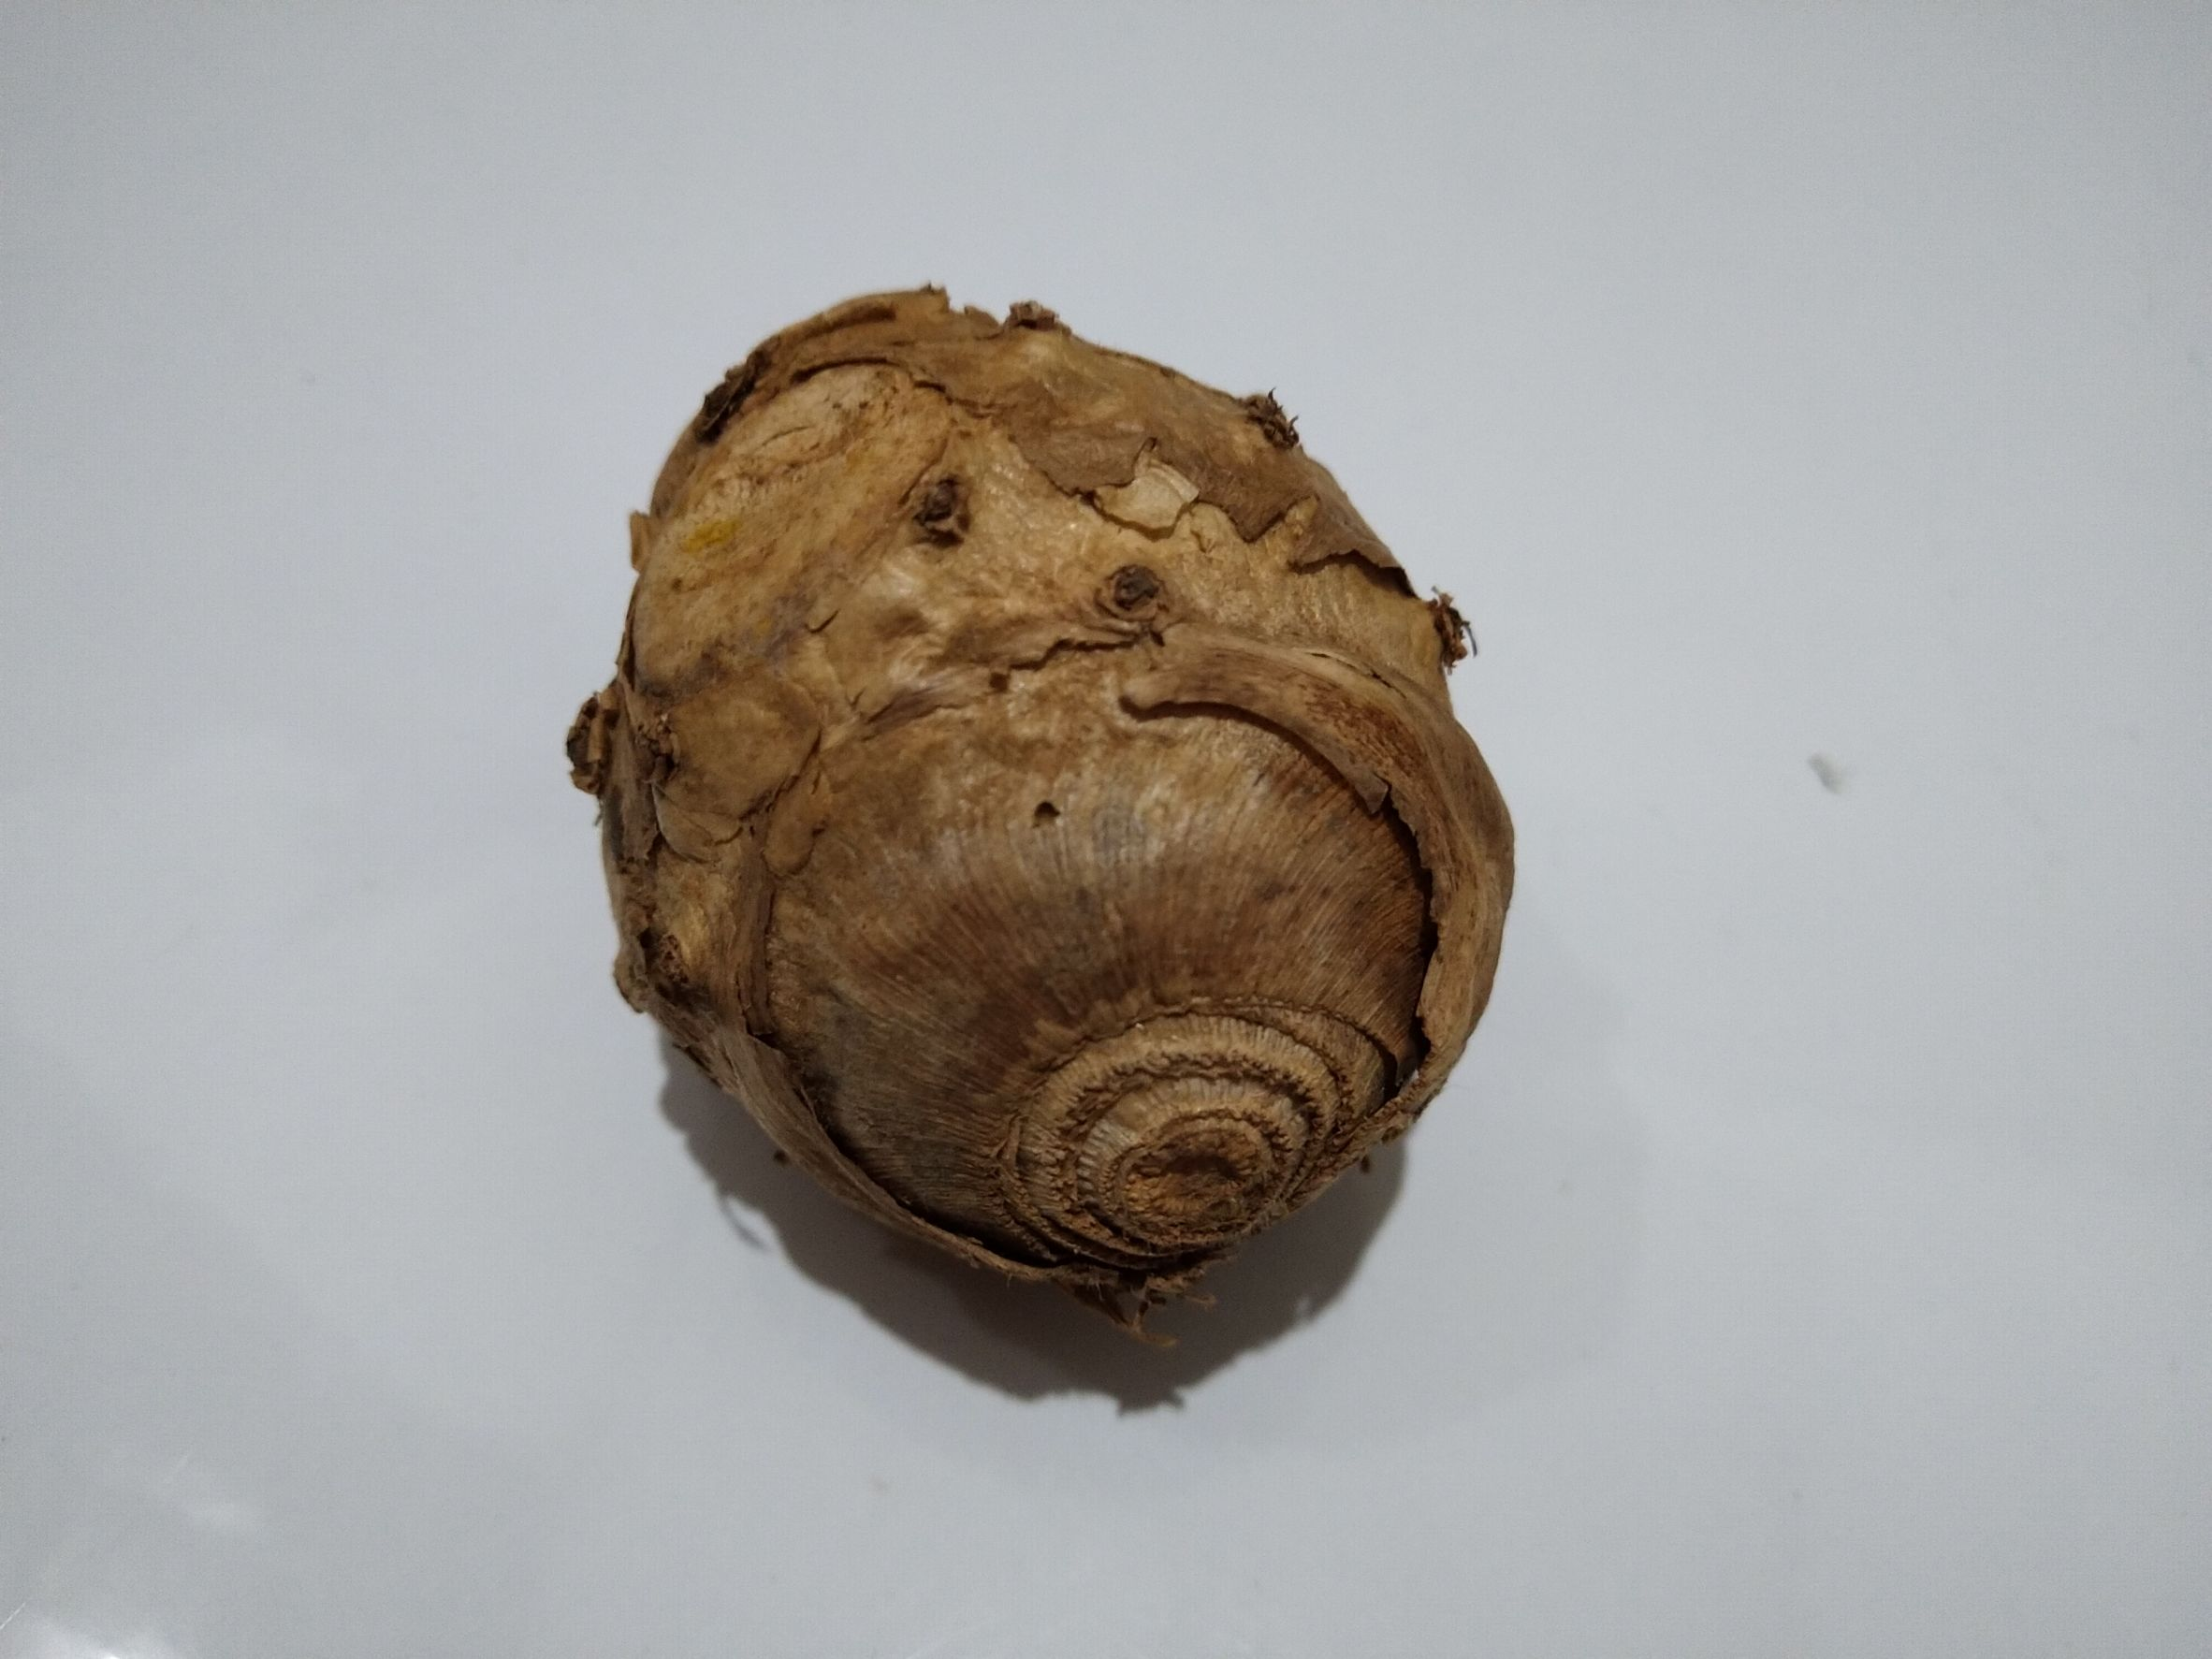Temulawak: (589, 289, 1529, 1349)
